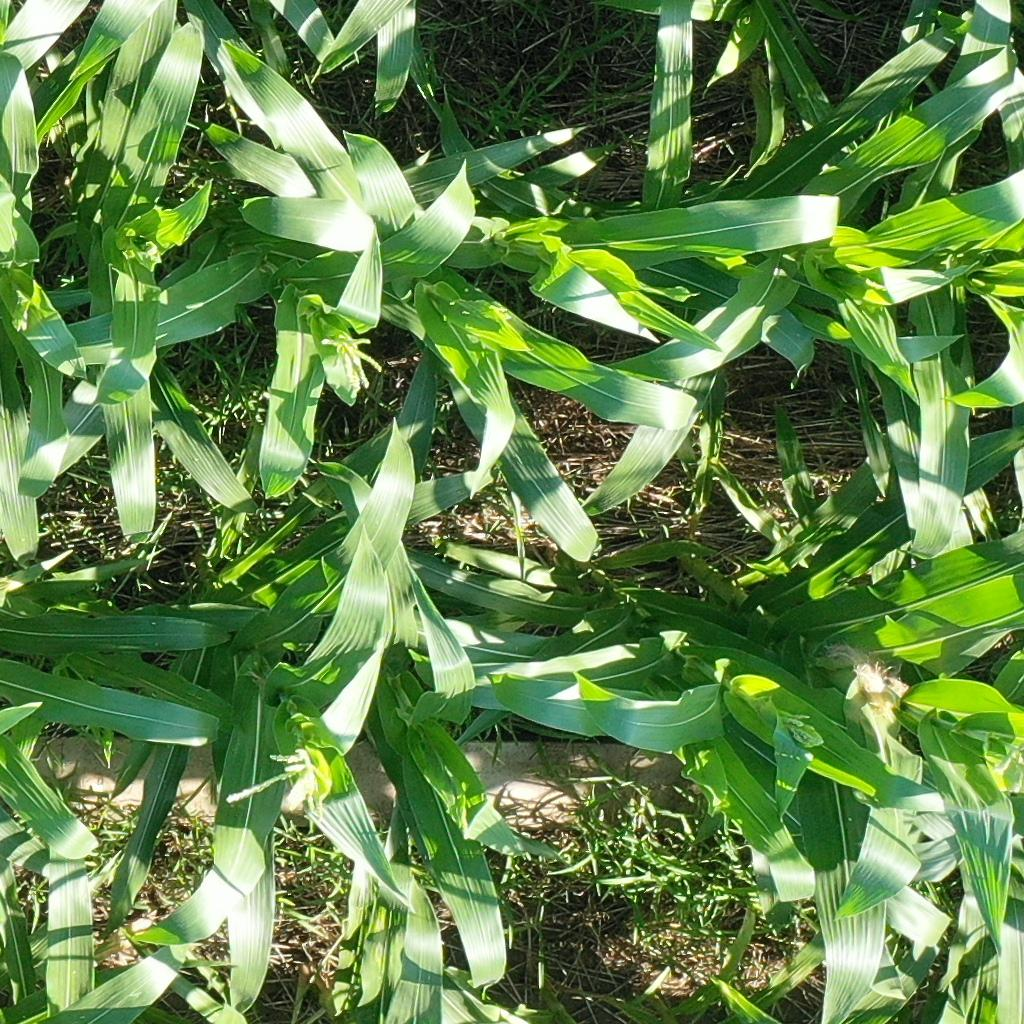Tassel: (220, 742, 338, 818), (321, 327, 384, 387), (992, 742, 1024, 796), (11, 289, 36, 321)
